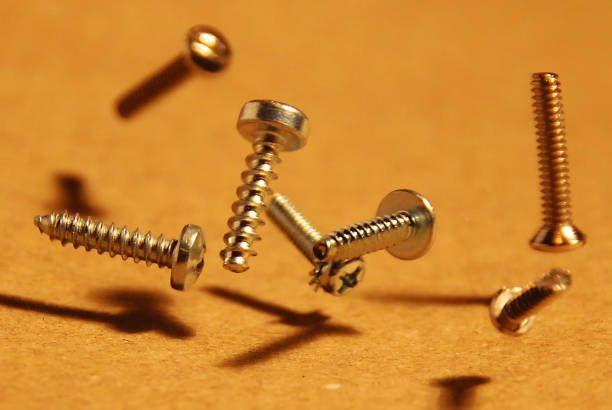metal: (221, 99, 308, 272), (34, 210, 207, 291), (116, 23, 230, 122), (526, 73, 584, 251), (313, 191, 436, 266)
